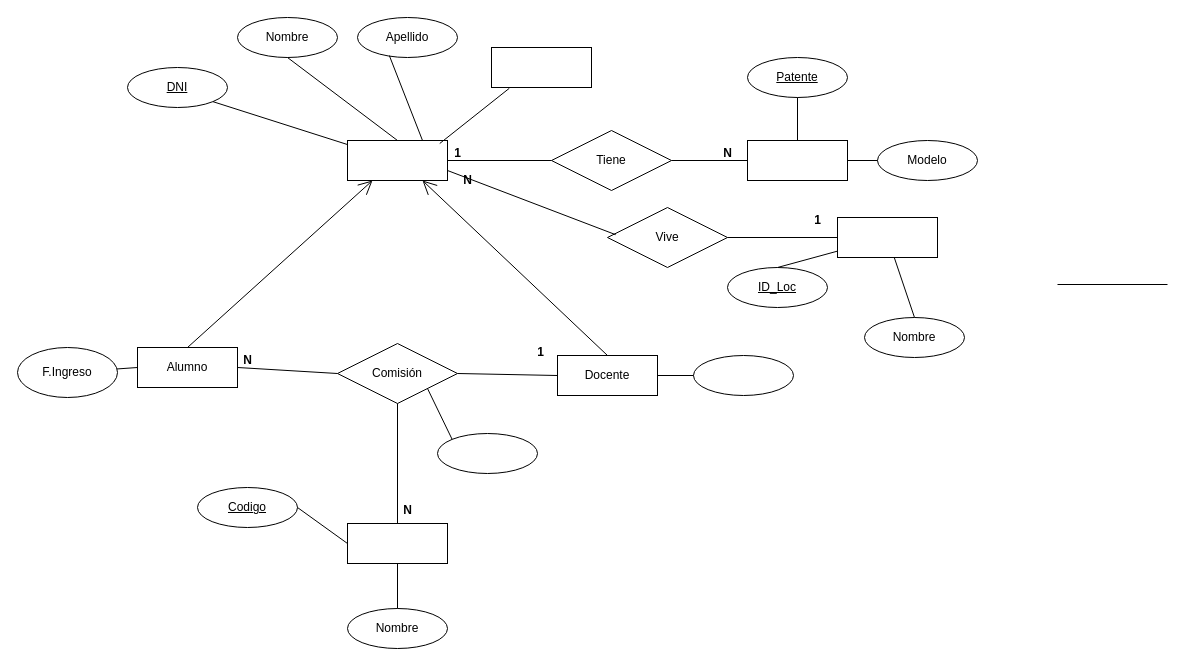
This 1186x666 diagram has some shape labels left out. The centre of each missing label's shape, as x and y in pixels:
"Automóvil" belongs at (x=797, y=160).
"Cargo" belongs at (x=743, y=375).
"FNAC" belongs at (x=541, y=67).
"Localidad" belongs at (x=887, y=237).
"Materia" belongs at (x=397, y=543).
"NroComision" belongs at (x=487, y=453).
"Persona" belongs at (x=397, y=160).
